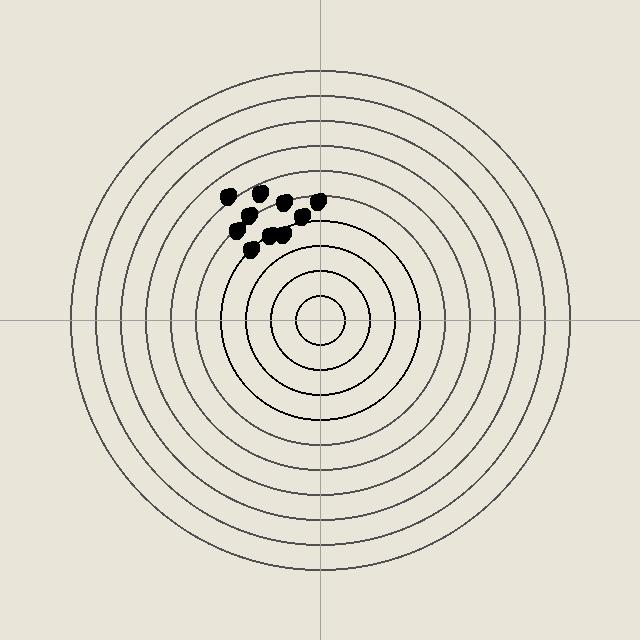good_group: (217, 186, 237, 206), (273, 192, 293, 212), (238, 205, 258, 225), (259, 225, 279, 245), (249, 183, 269, 203), (226, 220, 246, 240), (272, 224, 292, 244), (307, 191, 327, 211), (291, 206, 311, 226), (240, 239, 260, 259)
